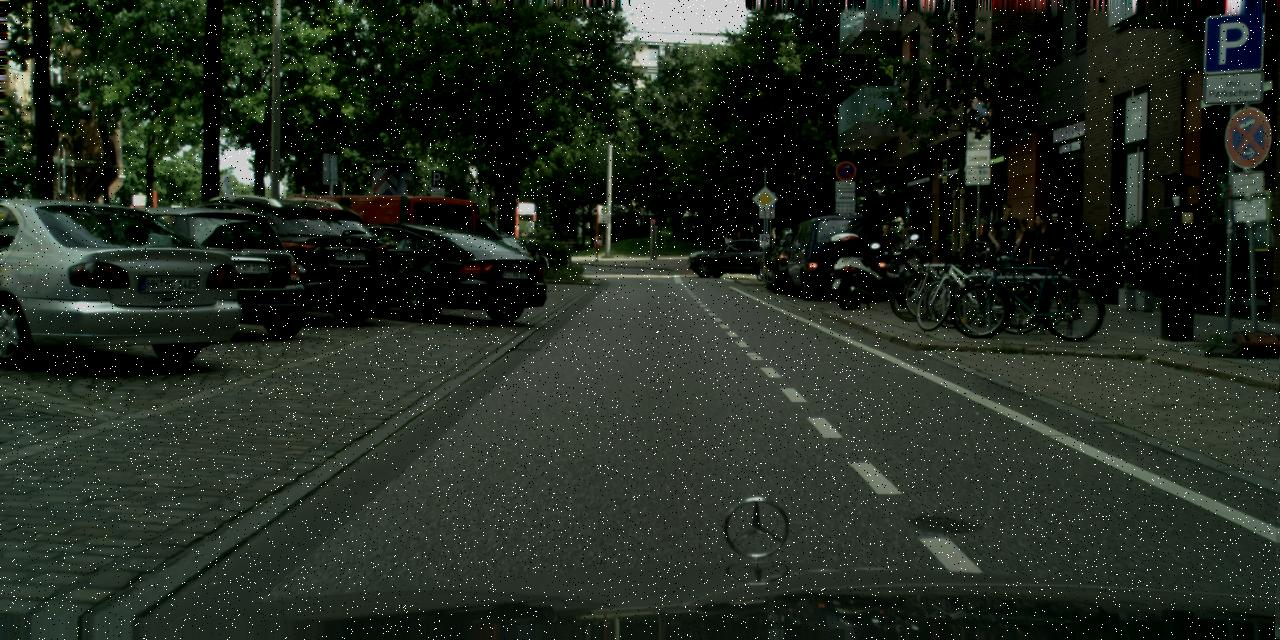ped: (324, 198, 366, 300), (1022, 212, 1058, 302), (988, 203, 1024, 292), (1006, 218, 1038, 298), (876, 224, 896, 275), (898, 227, 916, 273), (705, 229, 716, 257), (714, 232, 724, 260), (722, 232, 732, 254), (729, 232, 739, 254), (748, 223, 754, 238), (772, 226, 776, 240)
